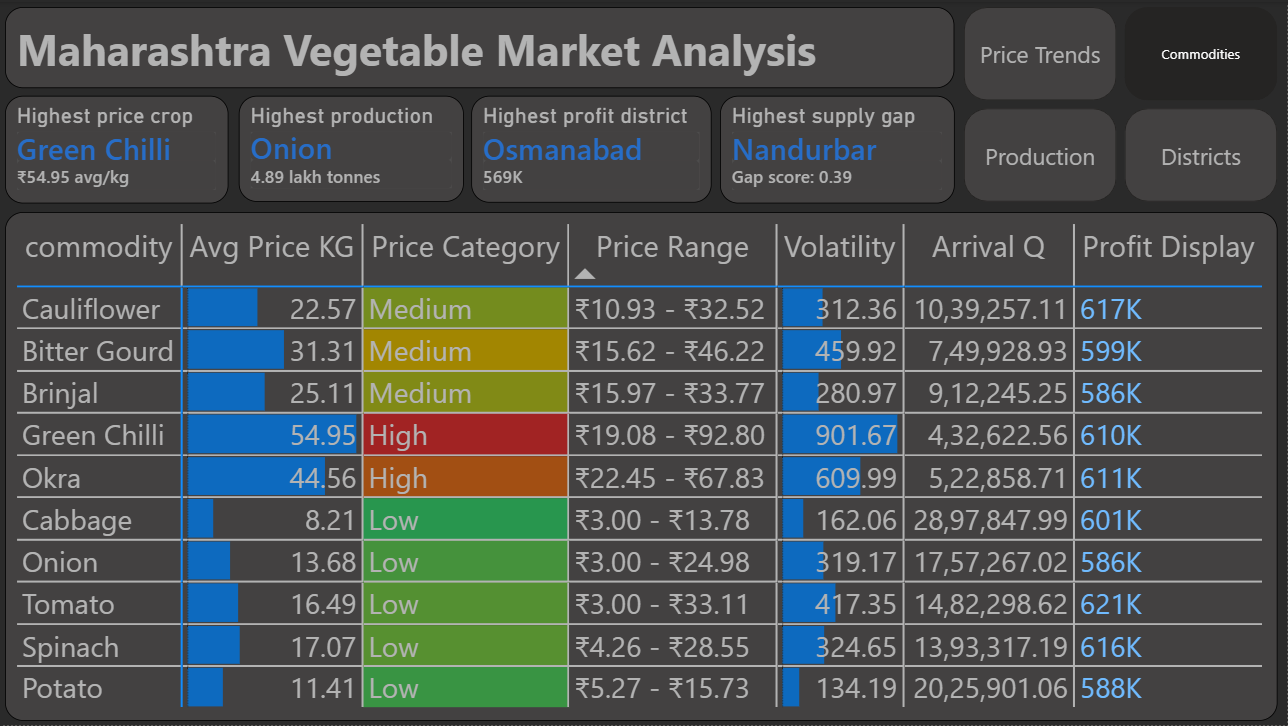

What the dashboard file says about the page in this screenshot:
{"tool":"powerbi","page":{"name":"Page 1","canvas":[1280,720],"ordinal":0},"visuals":[{"type":"cardVisual","title":"Highest price crop","fields":{"Data":["mandi_data_cleaned.Highest Price Crop","mandi_data_cleaned.Highest Price Display"]},"box":[5.6,93,222.6,107.1],"z":0},{"type":"clusteredBarChart","title":"District price comparison (April 2026)","fields":{"Y":["mandi_data_cleaned.Avg Price KG"],"Category":["mandi_data_cleaned.district"]},"box":[5.6,208.7,655,504.7],"z":0,"group":"g1"},{"type":"pivotTable","title":"Top 10 district-crop profit combinations","fields":{"Rows":["mandi_data_cleaned.District Crop"],"Values":["mandi_data_cleaned.Avg Profit Score"]},"box":[670.1,209.2,601,504.6],"z":1000,"group":"g1"},{"type":"cardVisual","title":"Highest production","fields":{"Data":["mandi_data_cleaned.Highest Production Crop","mandi_data_cleaned.Highest Production Display"]},"box":[237,93,224,105.7],"z":3000},{"type":"cardVisual","title":"Highest supply gap","fields":{"Data":["mandi_data_cleaned.Highest Supply Gap District","mandi_data_cleaned.Supply Gap Display"]},"box":[716,93,233.9,107],"z":4000},{"type":"cardVisual","title":"Highest profit district","fields":{"Data":["mandi_data_cleaned.Highest Profit District","mandi_data_cleaned.Profit Display"]},"box":[469,93,239.3,106],"z":5000},{"type":"textbox","box":[5.6,5.6,944.7,80.7],"z":6000},{"type":"bookmarkNavigator","box":[958.6,5.6,313,194.8],"z":7000},{"type":"group","id":"g1","title":"Group 1","box":[5.6,208.7,1265.5,505],"z":8000}]}

Visuals, with their boxes in screenshot pixels (x1, y1, x2, y2), scaled from the page's 1280x720 canvas onto the 1288x726 screenshot:
"Highest price crop" cardVisual: (left=6, top=94, right=230, bottom=202)
"District price comparison (April 2026)" clusteredBarChart: (left=6, top=210, right=665, bottom=719)
"Top 10 district-crop profit combinations" pivotTable: (left=674, top=211, right=1279, bottom=720)
"Highest production" cardVisual: (left=238, top=94, right=464, bottom=200)
"Highest supply gap" cardVisual: (left=720, top=94, right=956, bottom=202)
"Highest profit district" cardVisual: (left=472, top=94, right=713, bottom=201)
textbox: (left=6, top=6, right=956, bottom=87)
bookmarkNavigator: (left=965, top=6, right=1280, bottom=202)
"Group 1" group: (left=6, top=210, right=1279, bottom=720)
